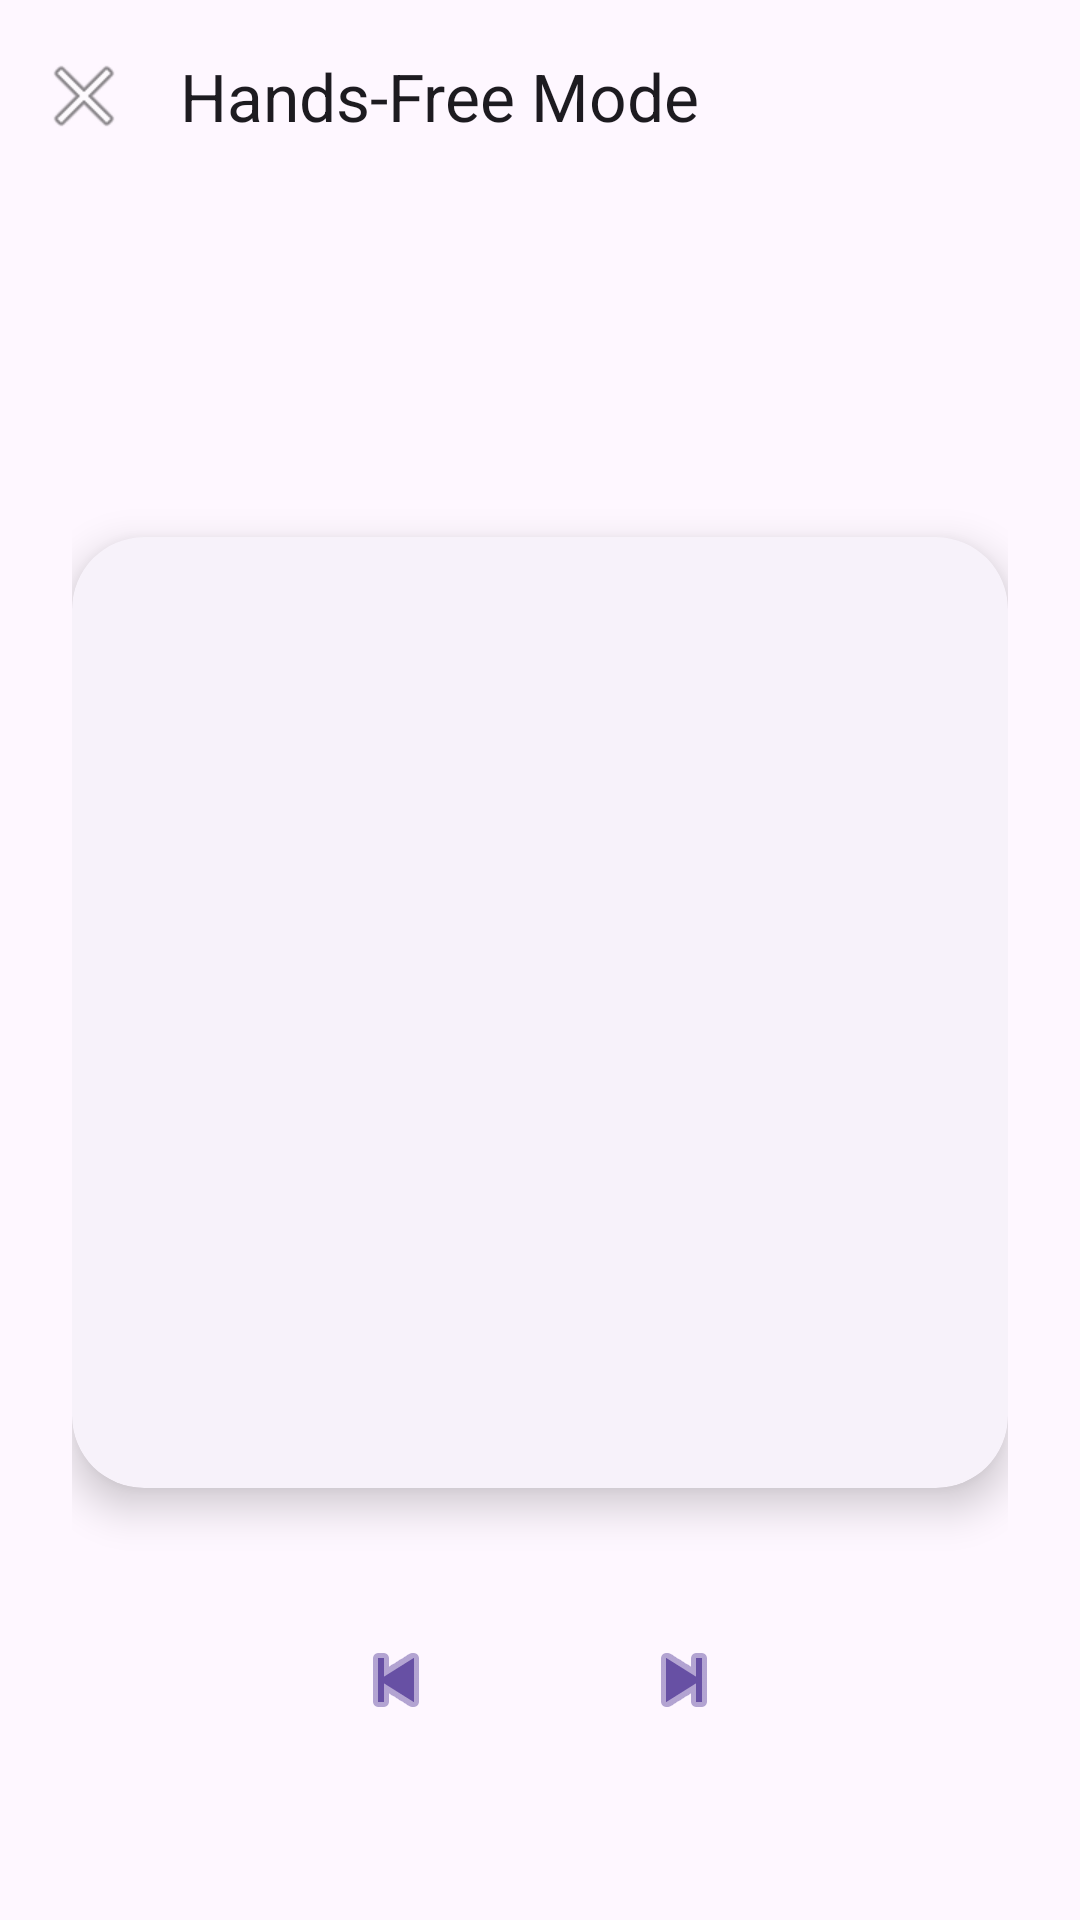

Icons on this 1080x1920 Android screen, each with the point to tap as point (x, y):
Next Step: point (684, 1680)
Previous Step: point (396, 1680)
